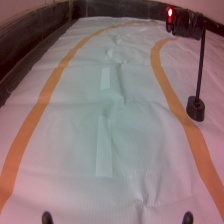red: (161, 4, 209, 123)
